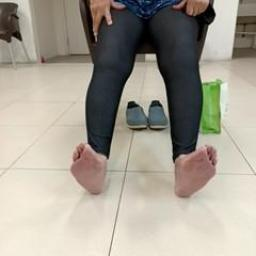Plantar View -Both Feet-: (58, 129, 226, 213)
